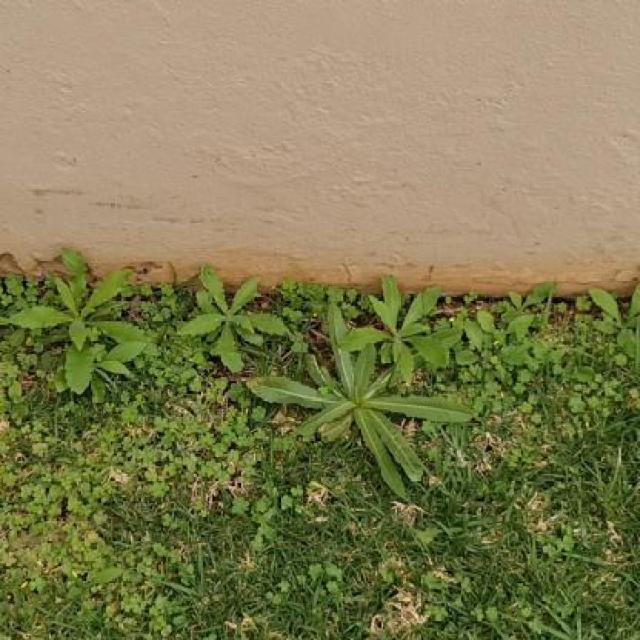weed: (0, 249, 568, 498), (578, 288, 640, 370)
